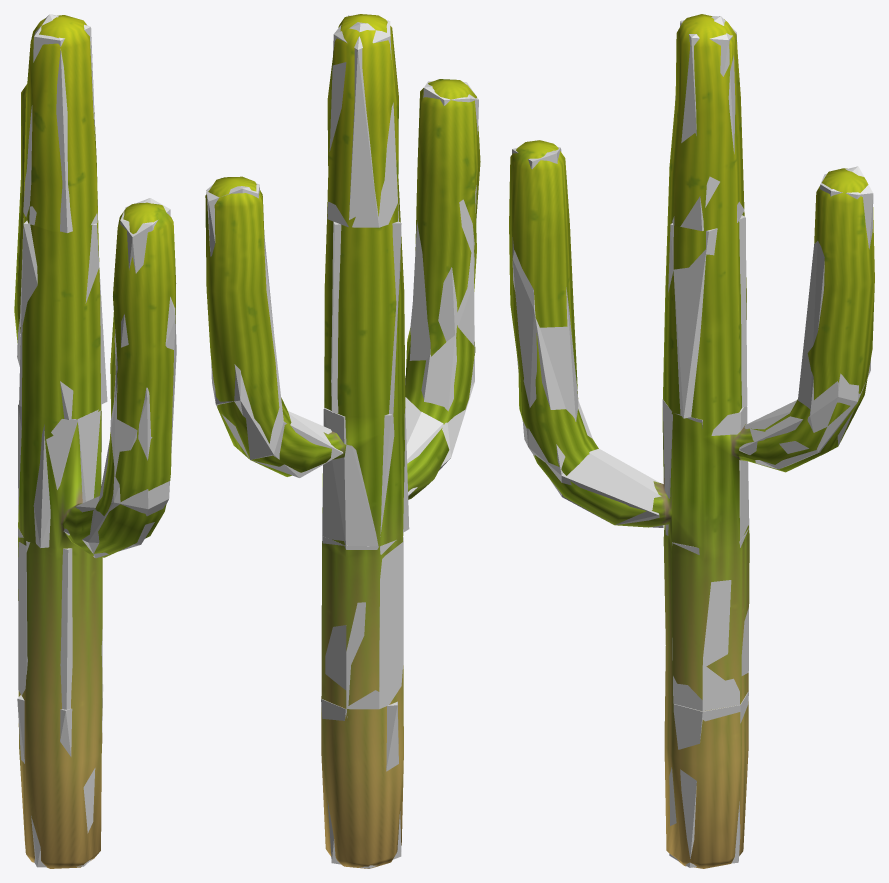
The model's file is Fractured_3.fbx.
3 views of the same model, side by side, from view 1: azimuth 30°, elevation 25°; view 2: azimuth 150°, elevation 25°; view 3: azimuth 270°, elevation 25° (orthographic).
Visible parts, largest first — view 1: cactus_3_branch_1, cactus_3_body_4, cactus_3_body_5, cactus_3_body_1, cactus_3_body_2, cactus_3_branch_1_cd, cactus_3_body_3, cactus_3_body_3_cd, cactus_3_body_2_cd, cactus_3_body_5_cd, cactus_3_body_4_cd, cactus_3_body_1_cd (+1 smaller); view 2: cactus_3_branch_1, cactus_3_branch_2, cactus_3_body_4, cactus_3_body_1, cactus_3_body_5, cactus_3_branch_1_cd, cactus_3_body_2, cactus_3_body_2_cd, cactus_3_body_5_cd, cactus_3_body_3_cd, cactus_3_body_3, cactus_3_branch_2_cd (+2 smaller); view 3: cactus_3_branch_1, cactus_3_branch_2, cactus_3_body_5, cactus_3_body_4, cactus_3_body_1, cactus_3_branch_1_cd, cactus_3_body_2, cactus_3_body_3, cactus_3_branch_2_cd, cactus_3_body_4_cd, cactus_3_body_2_cd, cactus_3_body_1_cd (+2 smaller).
Part boxes in pixels (left/top/right/bottom): cactus_3_branch_1: left=64, top=202, right=176, bottom=557; cactus_3_body_4: left=22, top=213, right=100, bottom=419; cactus_3_body_5: left=24, top=15, right=98, bottom=231; cactus_3_body_1: left=18, top=691, right=102, bottom=868; cactus_3_body_2: left=18, top=536, right=102, bottom=709; cactus_3_branch_1_cd: left=63, top=198, right=176, bottom=558; cactus_3_body_3: left=18, top=405, right=101, bottom=548; cactus_3_body_3_cd: left=18, top=404, right=100, bottom=547; cactus_3_body_2_cd: left=18, top=528, right=102, bottom=709; cactus_3_body_5_cd: left=23, top=14, right=97, bottom=232; cactus_3_body_4_cd: left=19, top=220, right=107, bottom=419; cactus_3_body_1_cd: left=17, top=684, right=103, bottom=867; cactus_3_branch_1: left=405, top=79, right=480, bottom=499; cactus_3_branch_2: left=205, top=176, right=344, bottom=476; cactus_3_body_4: left=324, top=211, right=405, bottom=416; cactus_3_body_1: left=321, top=699, right=403, bottom=868; cactus_3_body_5: left=327, top=14, right=399, bottom=227; cactus_3_branch_1_cd: left=405, top=81, right=478, bottom=496; cactus_3_body_2: left=321, top=533, right=403, bottom=708; cactus_3_body_2_cd: left=322, top=536, right=403, bottom=709; cactus_3_body_5_cd: left=327, top=15, right=398, bottom=227; cactus_3_body_3_cd: left=322, top=407, right=409, bottom=546; cactus_3_body_3: left=322, top=399, right=405, bottom=546; cactus_3_branch_2_cd: left=206, top=177, right=343, bottom=477; cactus_3_branch_1: left=509, top=140, right=664, bottom=527; cactus_3_branch_2: left=738, top=168, right=874, bottom=472; cactus_3_body_5: left=668, top=14, right=744, bottom=231; cactus_3_body_4: left=663, top=211, right=746, bottom=419; cactus_3_body_1: left=664, top=690, right=748, bottom=868; cactus_3_branch_1_cd: left=512, top=147, right=663, bottom=527; cactus_3_body_2: left=663, top=529, right=749, bottom=704; cactus_3_body_3: left=662, top=407, right=748, bottom=548; cactus_3_branch_2_cd: left=739, top=166, right=873, bottom=469; cactus_3_body_4_cd: left=668, top=215, right=747, bottom=418; cactus_3_body_2_cd: left=672, top=528, right=749, bottom=711; cactus_3_body_1_cd: left=669, top=691, right=748, bottom=867.
Bounding box in the file's own units: 291 × 1865 × 738.
